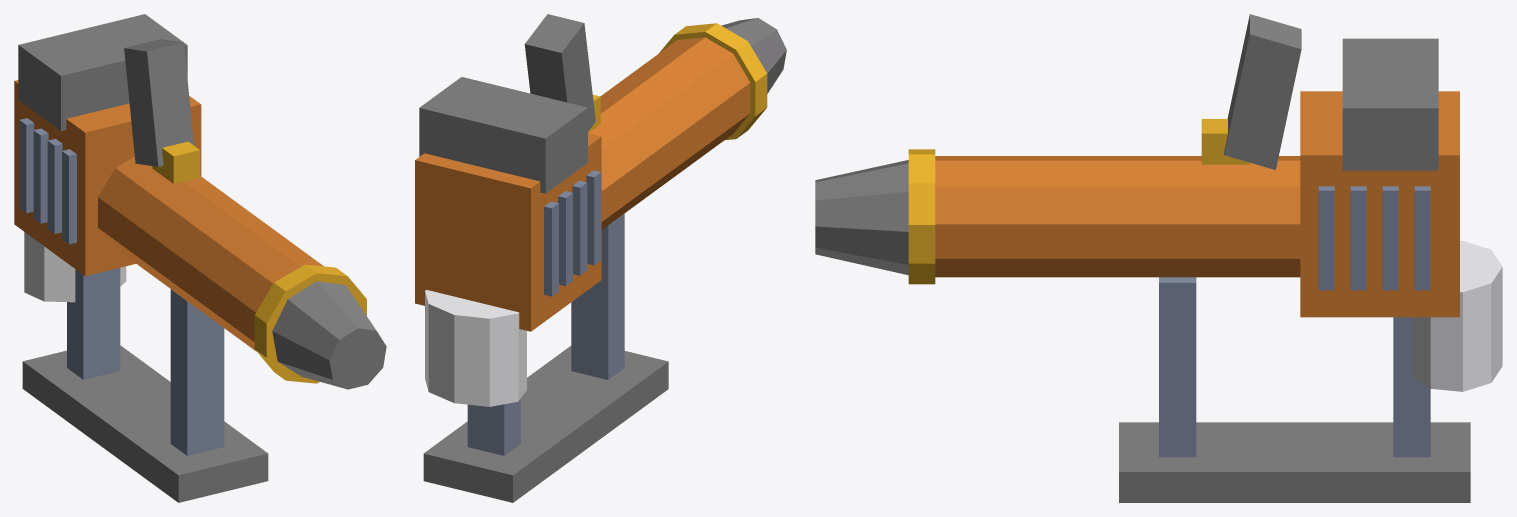
The model's file is leaf_blower.glb.
3 views of the same model, side by side, from view 1: azimuth 30°, elevation 25°; view 2: azimuth 150°, elevation 25°; view 3: azimuth 270°, elevation 25° (orthographic). The views are drawn at different scales.
Parts seen in each view (by area): view 1: leaf_blower; view 2: leaf_blower; view 3: leaf_blower.
Boxes of the visible parts, x1,y1,x2,y2 form: leaf_blower: (14, 14, 386, 502); leaf_blower: (415, 14, 786, 502); leaf_blower: (815, 14, 1502, 502).
Size of the model in its own units: 0.25 by 0.7291 by 1.
